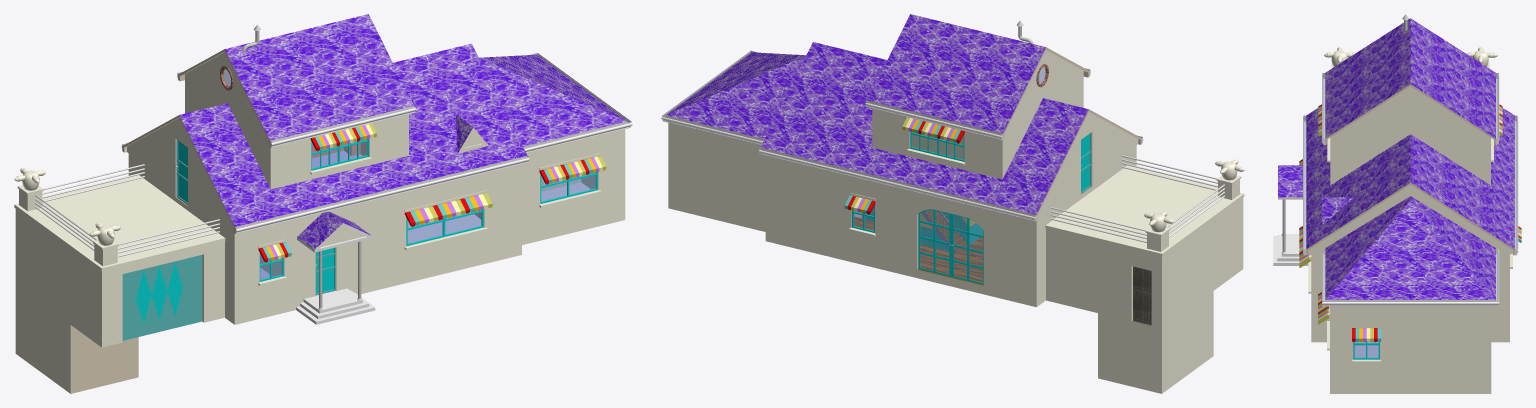
File: oggys_house.glb
3 renders of one model, left to right at view 1: azimuth 30°, elevation 25°; view 2: azimuth 150°, elevation 25°; view 3: azimuth 270°, elevation 25°, orthographic. The views are drawn at different scales.
Parts seen in each view (by area): view 1: Material2 (×10), Material3 (×5), Material4; view 2: Material2 (×5), Material3 (×6), Material4; view 3: Material3 (×4), Material2 (×8), Material4.
Boxes of the visible parts, <box> form: Material2 (×10): <box>14,24,625,393</box>; Material3 (×5): <box>35,14,632,393</box>; Material4: <box>260,172,595,276</box>; Material2 (×5): <box>668,50,1244,393</box>; Material3 (×6): <box>661,14,1232,325</box>; Material4: <box>865,207,982,251</box>; Material3 (×4): <box>1273,18,1518,357</box>; Material2 (×8): <box>1282,14,1521,393</box>; Material4: <box>1303,73,1517,300</box>.
Bounding box in the file's own units: 811 × 451 × 344.
Materials: 43 (20 with a texture image).
